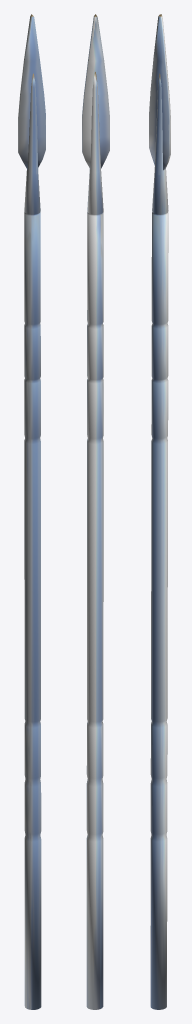
File: AuthenticMandoSpear.fbx
3 renders of one model, left to right at view 1: azimuth 30°, elevation 25°; view 2: azimuth 210°, elevation 25°; view 3: azimuth 330°, elevation 25°, orthographic.
Parts seen in each view (by area): view 1: BeskarSpear; view 2: BeskarSpear; view 3: BeskarSpear.
Part boxes in pixels (x1,y1,x2,y2): BeskarSpear: (18,14,45,1009); BeskarSpear: (82,14,109,1009); BeskarSpear: (149,14,170,1009).
Bounding box in the file's own units: 0.028 × 1.09 × 0.0186.
